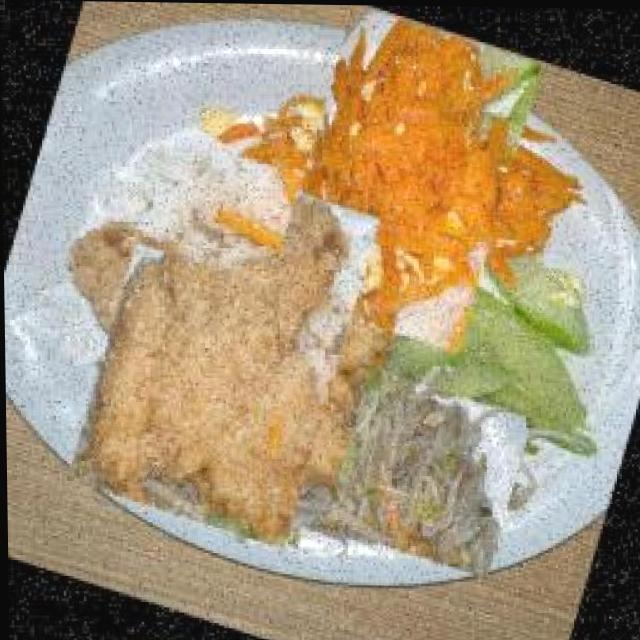carrot_eggs: (248, 21, 565, 338)
fried_chicken: (40, 165, 404, 530)
mung_bean_sprouts: (319, 364, 535, 579)
rice: (86, 129, 301, 286)
